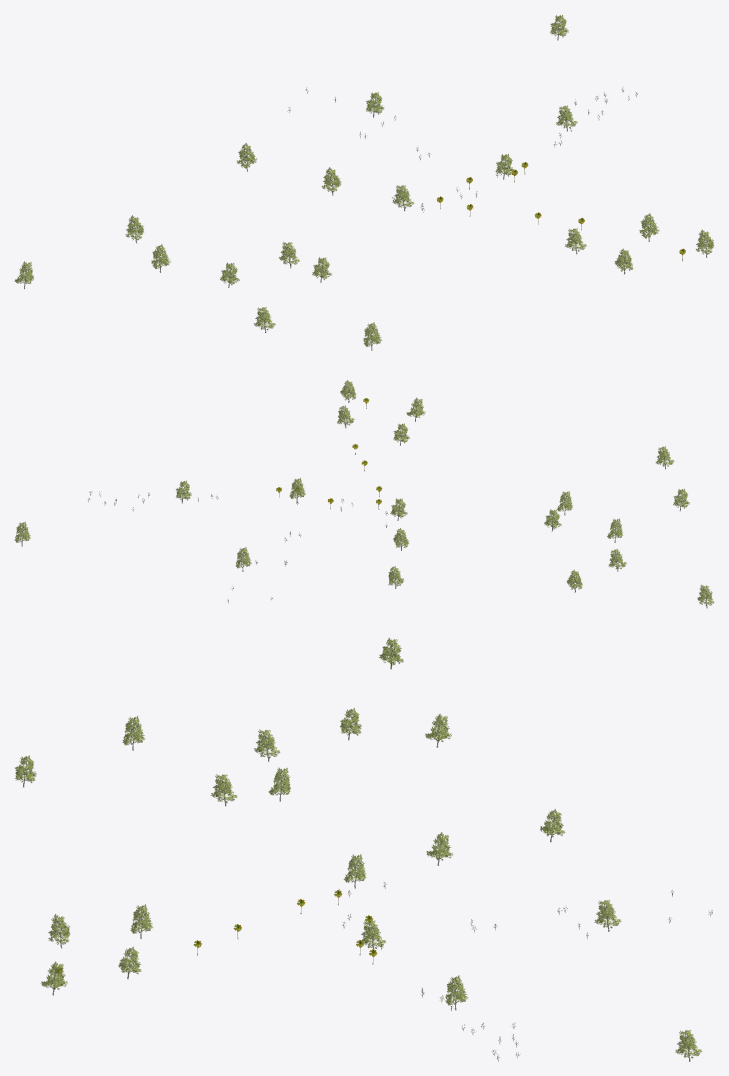
The model's file is Elie Saab_build_env.glb.
The picture shows the model from 3 angles, top to bottom: view 1: azimuth 30°, elevation 25°; view 2: azimuth 150°, elevation 25°; view 3: azimuth 270°, elevation 25°; orthographic projection. The views are drawn at different scales.
Visible parts, largest first — view 1: plants_location; view 2: plants_location; view 3: plants_location.
Part boxes in pixels (box(x1,y1,x2,y2)): plants_location: box(14, 15, 714, 350); plants_location: box(15, 380, 714, 608); plants_location: box(15, 638, 712, 1061).
Size of the model in its own units: 650 by 24.39 by 478.
5 materials, 5 textured.
